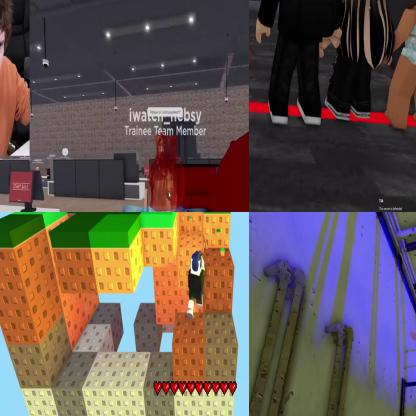Roblox-Avatar: (257, 1, 345, 128), (325, 1, 396, 123), (120, 131, 210, 212), (385, 1, 416, 132), (188, 252, 207, 321)
